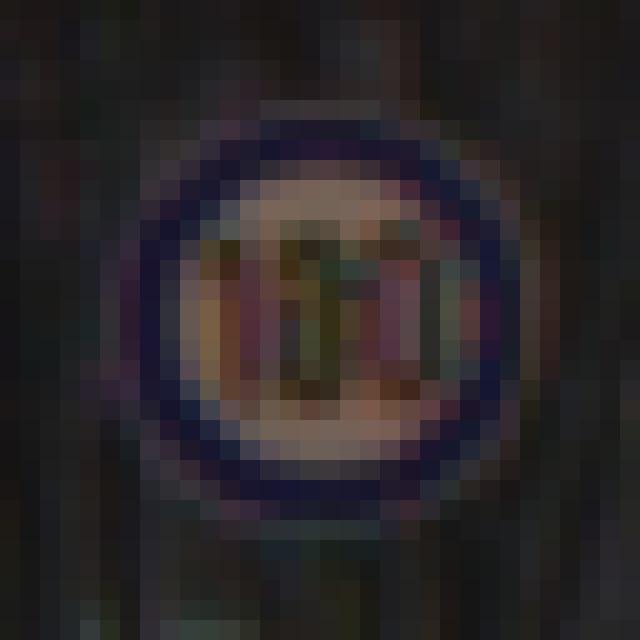SPEED LIMIT 100: (129, 125, 521, 539)
